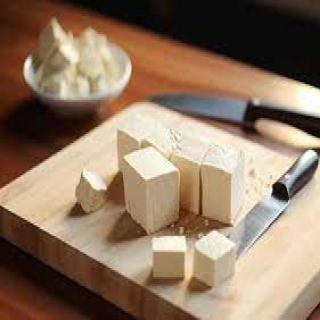Tahu: (92, 113, 257, 277)
